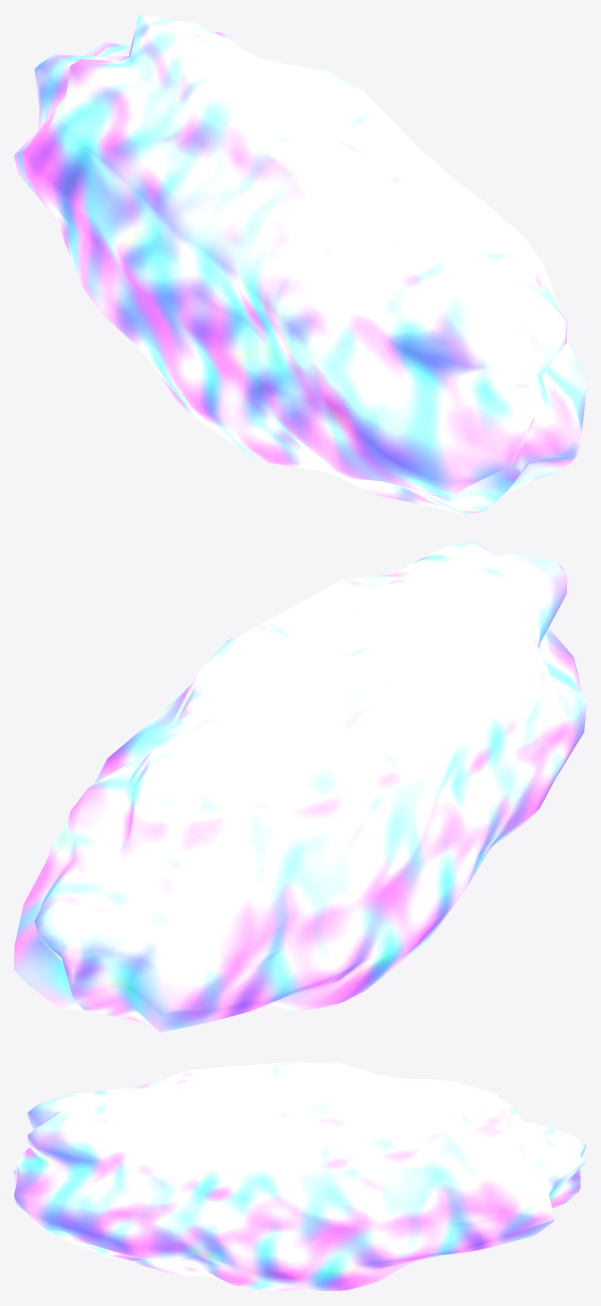
The model's file is SM_Cloud.fbx.
3 renders of one model, top to bottom at view 1: azimuth 30°, elevation 25°; view 2: azimuth 150°, elevation 25°; view 3: azimuth 270°, elevation 25°, orthographic. The views are drawn at different scales.
Parts seen in each view (by area): view 1: SM_Cloud_LOD0; view 2: SM_Cloud_LOD0; view 3: SM_Cloud_LOD0.
Part boxes in pixels (left/top/right/bottom): SM_Cloud_LOD0: left=14, top=14, right=586, bottom=513; SM_Cloud_LOD0: left=14, top=542, right=586, bottom=1032; SM_Cloud_LOD0: left=14, top=1061, right=586, bottom=1291.
Size of the model in its own units: 167 by 521 by 193.
